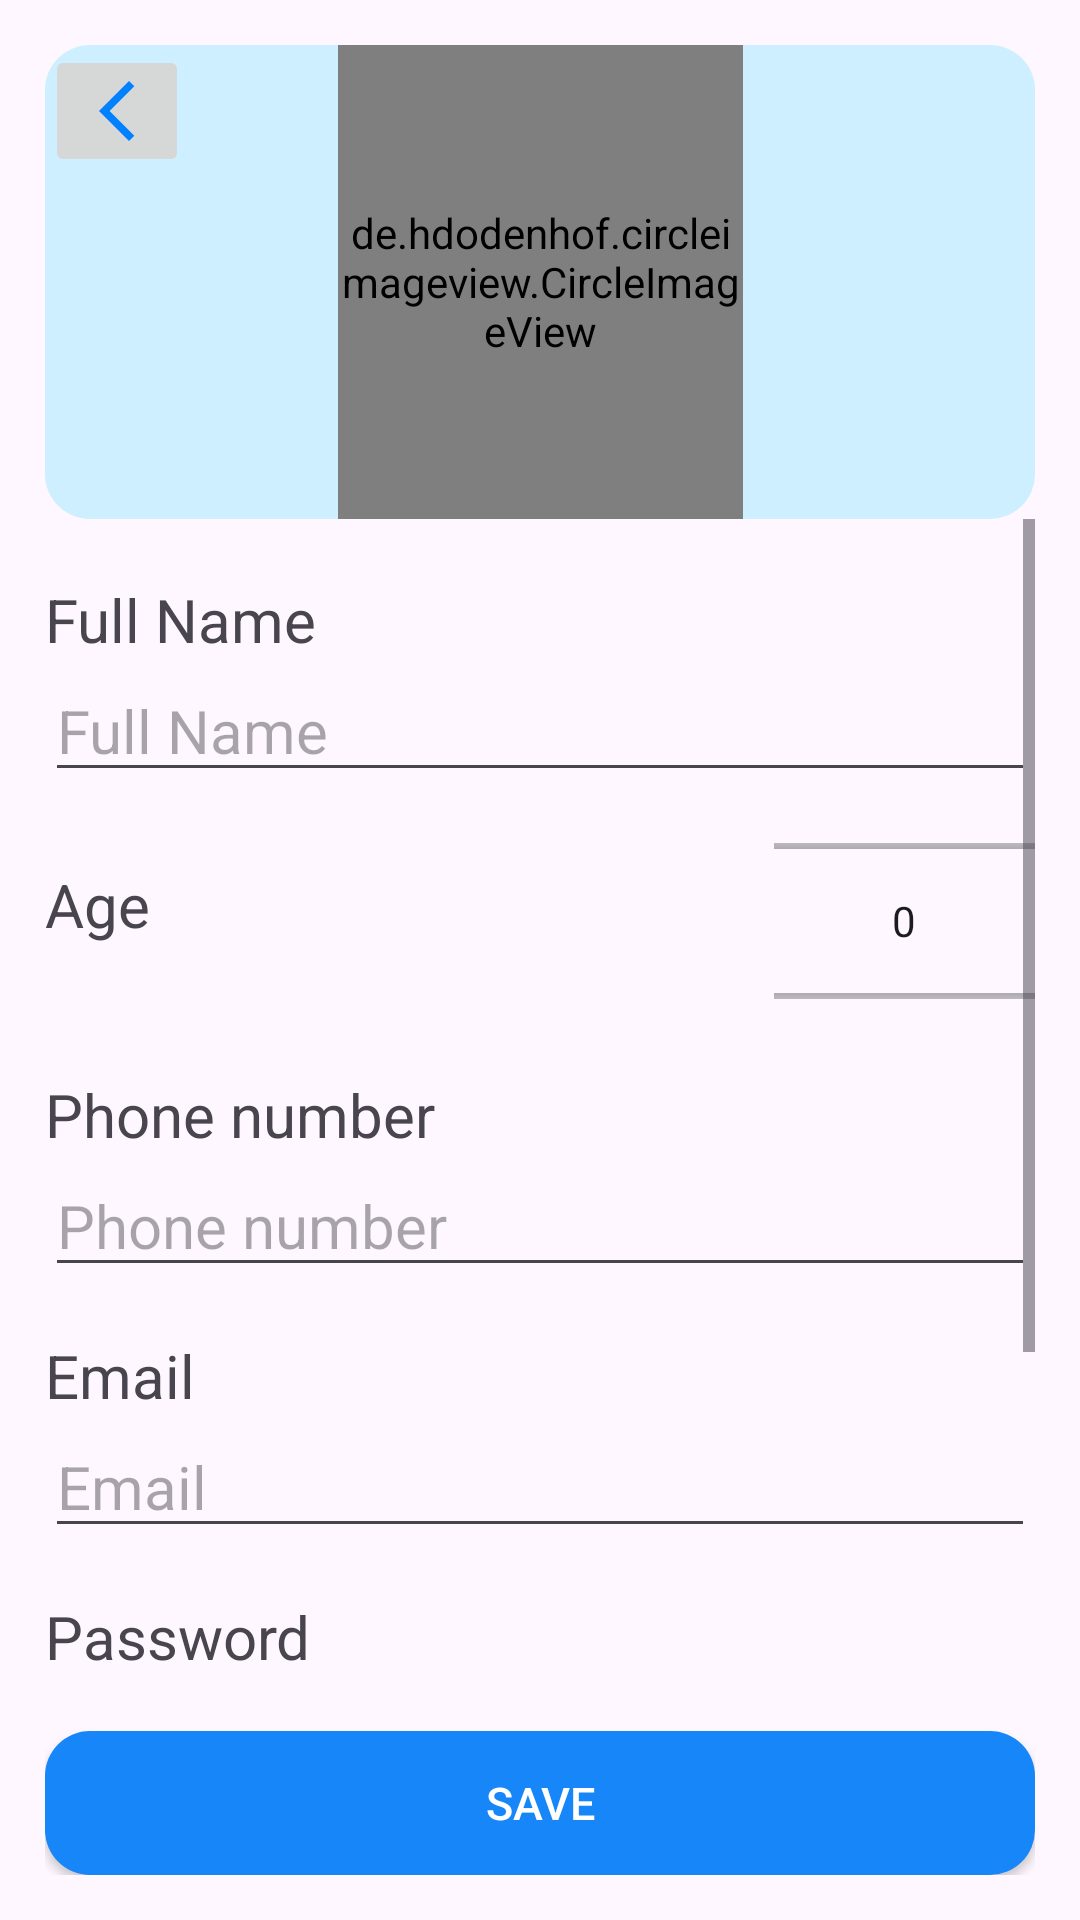

Point at icon controls on the screen. Image size 1080px x 1920px, points as [x,y].
back: [117,111]
